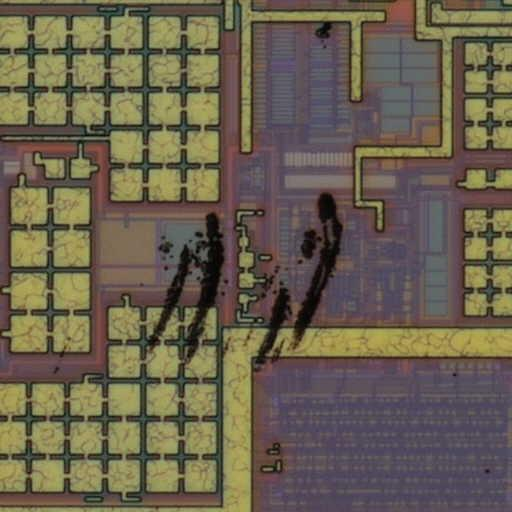SCRATCH: (135, 181, 347, 375)
